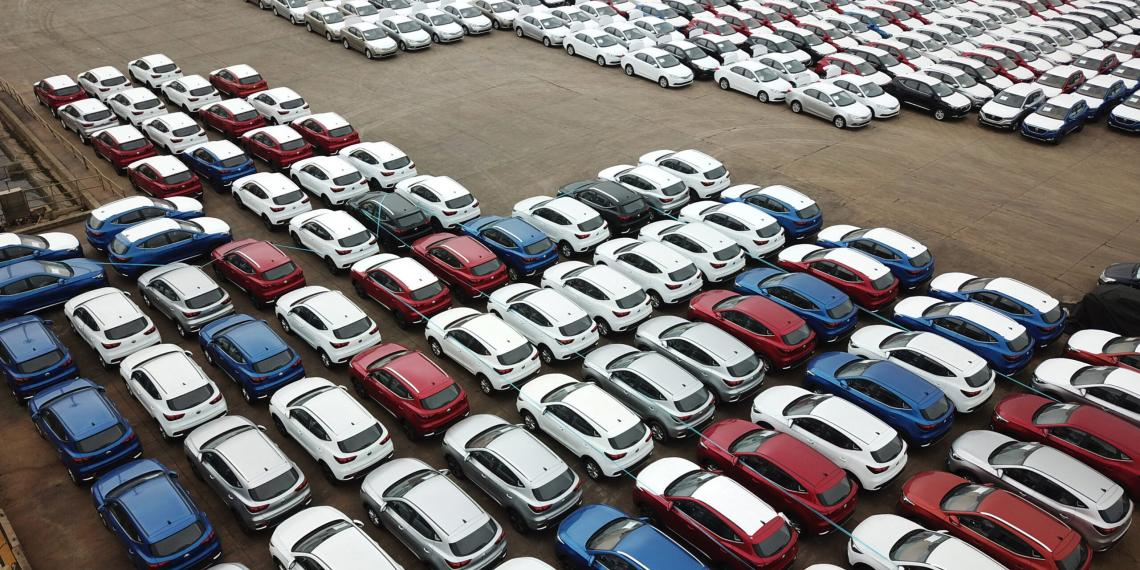Car: (947, 430, 1134, 552), (899, 471, 1092, 570), (697, 417, 859, 534), (633, 457, 799, 570), (749, 385, 908, 491), (359, 458, 509, 570), (442, 414, 584, 532), (992, 394, 1140, 501), (183, 415, 313, 532), (803, 351, 954, 450), (516, 373, 654, 481), (90, 458, 223, 570), (268, 376, 395, 483), (847, 325, 996, 414), (582, 344, 715, 442), (27, 377, 143, 486), (892, 295, 1035, 378), (349, 343, 471, 438), (633, 316, 766, 402), (928, 272, 1066, 349), (119, 344, 228, 441), (687, 289, 816, 370), (554, 504, 710, 570), (425, 307, 541, 395), (198, 314, 305, 403), (732, 268, 858, 343), (847, 514, 1007, 570), (487, 284, 600, 363), (275, 286, 382, 368), (268, 506, 405, 570), (540, 261, 654, 335), (776, 243, 899, 311), (64, 287, 163, 369), (108, 217, 233, 281), (593, 237, 704, 309), (349, 253, 452, 329), (816, 224, 934, 290), (137, 263, 235, 338), (82, 195, 205, 254), (1032, 358, 1140, 425), (0, 314, 79, 404), (0, 258, 107, 323), (638, 220, 746, 284), (209, 237, 307, 306), (411, 232, 509, 299), (678, 201, 786, 260), (460, 216, 559, 279), (512, 195, 610, 257), (288, 209, 380, 275), (719, 184, 823, 241), (556, 180, 652, 235), (344, 191, 431, 249), (785, 72, 872, 129), (231, 171, 312, 231), (394, 174, 481, 228), (638, 149, 730, 200), (598, 164, 691, 214), (817, 65, 901, 120), (884, 73, 972, 121), (180, 140, 258, 194), (290, 155, 370, 207), (338, 141, 417, 190), (714, 52, 793, 101), (913, 63, 995, 109), (620, 39, 694, 88), (128, 155, 204, 201), (1020, 94, 1088, 145), (91, 125, 158, 176), (976, 83, 1046, 131), (1064, 329, 1140, 372), (240, 126, 314, 170), (746, 44, 820, 88), (652, 32, 720, 79), (141, 111, 209, 155), (562, 21, 627, 67), (0, 232, 82, 268), (939, 56, 1014, 95), (291, 113, 361, 154), (979, 41, 1054, 79), (58, 97, 118, 144), (814, 53, 892, 89), (1069, 74, 1126, 122), (198, 98, 266, 138), (960, 48, 1035, 84), (340, 15, 401, 59), (684, 26, 751, 65), (1018, 26, 1088, 63), (160, 74, 222, 114), (775, 28, 837, 68), (244, 87, 311, 124), (513, 4, 570, 47), (1001, 33, 1073, 67), (107, 87, 168, 127), (32, 74, 87, 118), (742, 33, 813, 67), (862, 39, 935, 72), (376, 8, 432, 51), (407, 1, 464, 43), (846, 46, 915, 80), (1048, 14, 1117, 48), (889, 31, 957, 64), (208, 64, 269, 98), (626, 9, 685, 44), (1038, 20, 1104, 51), (911, 25, 976, 56), (597, 16, 656, 50), (796, 21, 858, 53), (128, 54, 183, 90), (1065, 9, 1133, 38), (819, 15, 882, 46), (929, 19, 996, 48), (77, 66, 134, 100), (438, 0, 493, 35), (949, 12, 1015, 41), (1082, 2, 1140, 35), (1031, 65, 1085, 100), (684, 17, 748, 46), (843, 9, 903, 39), (304, 0, 346, 41), (968, 7, 1031, 34), (636, 2, 689, 34), (864, 4, 925, 31), (1068, 49, 1119, 81), (740, 5, 796, 34), (982, 1, 1044, 27), (715, 11, 774, 38), (760, 0, 819, 26), (884, 0, 945, 25), (1108, 89, 1140, 133), (571, 0, 627, 25), (473, 0, 519, 30), (544, 6, 599, 30), (1001, 0, 1062, 21), (1108, 58, 1140, 97), (1097, 262, 1140, 289), (1103, 34, 1140, 65), (661, 0, 715, 21), (789, 0, 841, 21), (337, 0, 380, 24), (271, 0, 311, 24), (493, 556, 559, 570), (917, 0, 963, 19), (1097, 0, 1140, 20), (597, 0, 637, 21), (368, 0, 412, 16), (694, 0, 739, 15), (821, 0, 862, 15), (1037, 0, 1076, 14), (944, 0, 982, 13), (508, 0, 549, 12), (724, 0, 761, 11), (206, 562, 251, 570), (850, 0, 884, 9), (804, 563, 845, 570), (409, 0, 440, 9), (243, 0, 272, 9), (1061, 0, 1093, 8), (539, 0, 567, 8), (969, 0, 996, 7), (319, 0, 341, 8), (630, 0, 662, 5), (456, 0, 476, 7), (1083, 0, 1100, 3), (877, 0, 888, 4)
